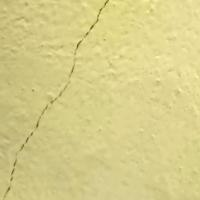crack: (6, 2, 108, 199)
